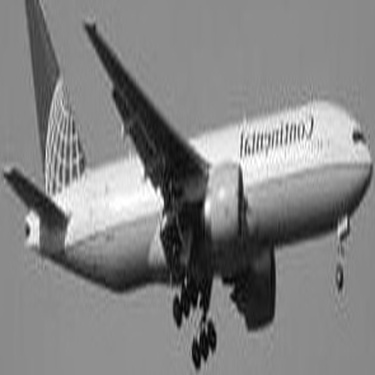airplane: (2, 8, 366, 371)
